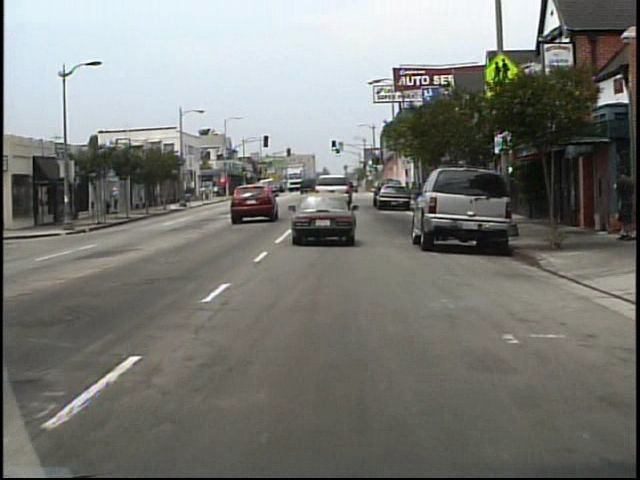person: (610, 168, 635, 241), (113, 185, 125, 214)
